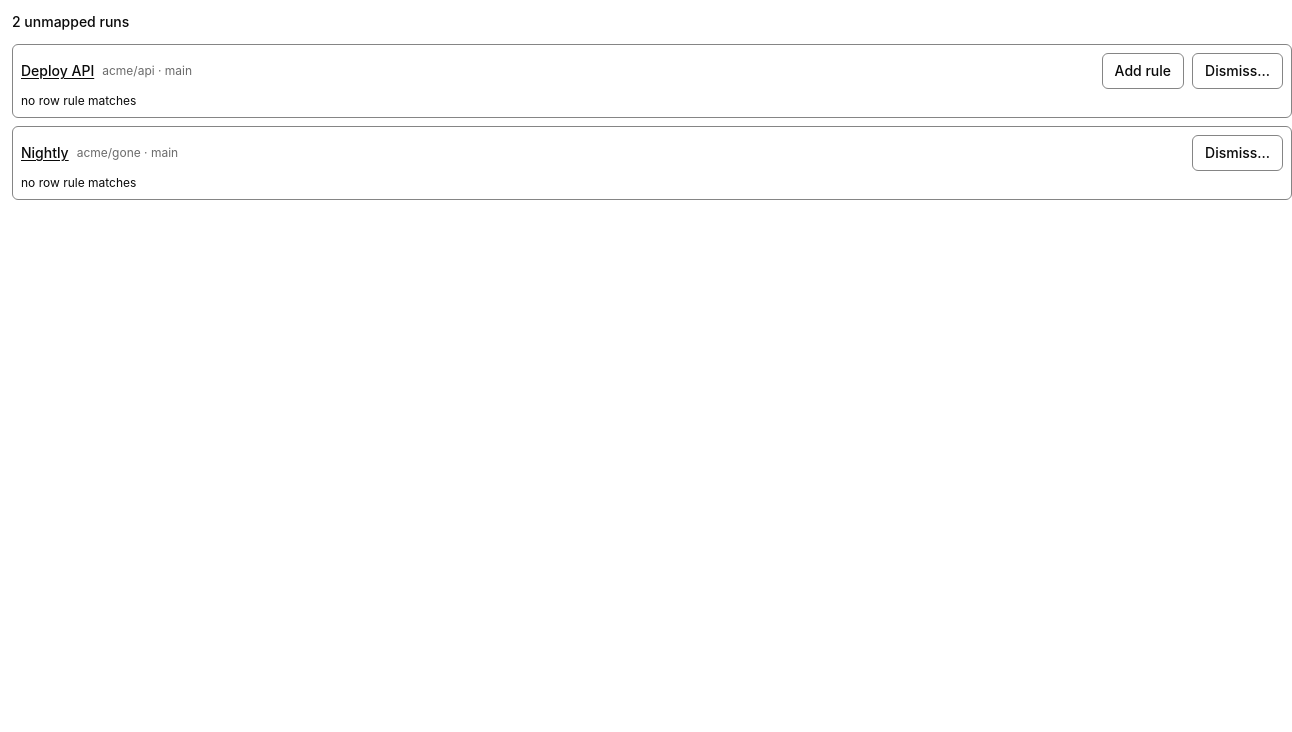
Scenario: UnmappedPanel › opens the editor on the row with the test pre-filled
What coordinates should you click on to do the following:
click the button "Add rule"
I would click on:
 (1143, 71)
Its box is top-left (1102, 53), bottom-right (1184, 89).
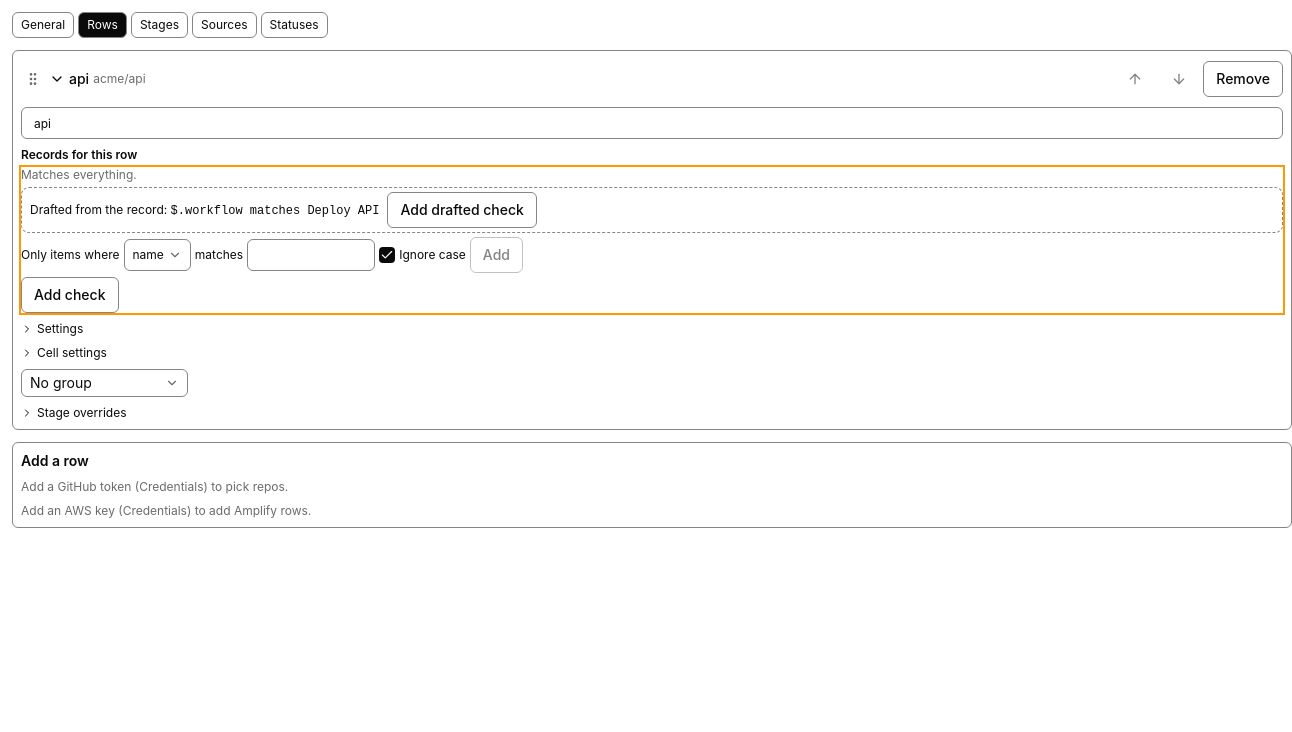
Result: the element named "Record rule for api" is shown at top-left (21, 167), bottom-right (1283, 313)
